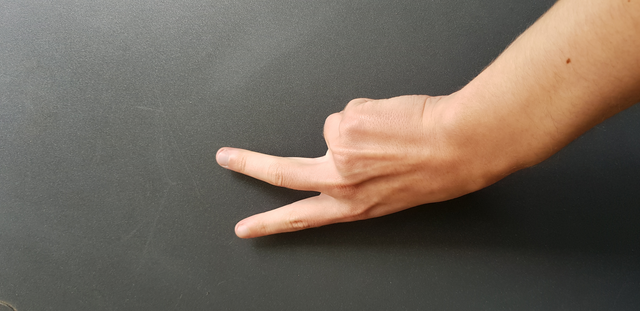Scissors: (195, 64, 531, 248)
